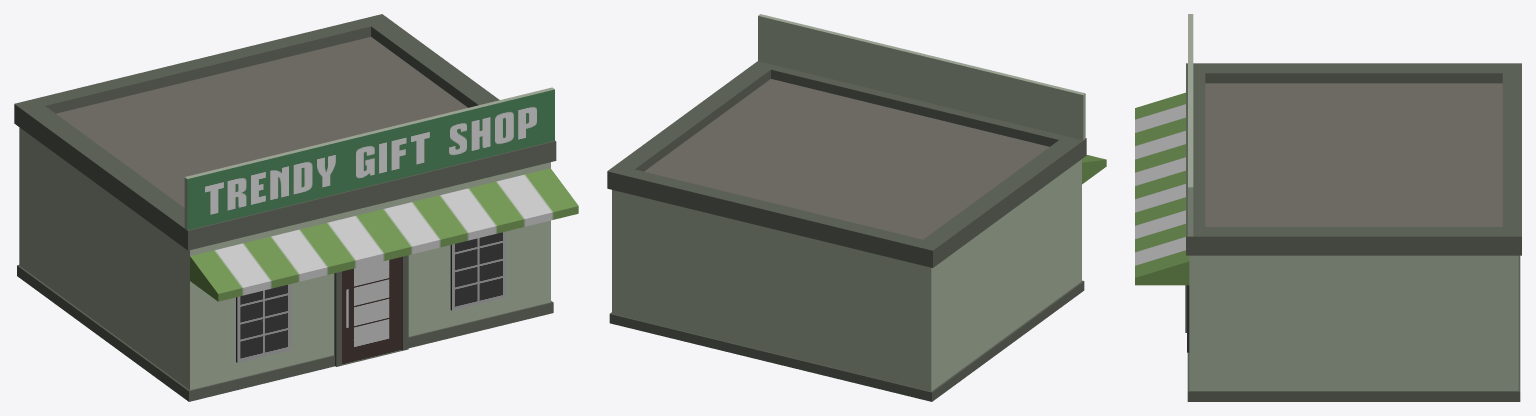
File: building-gift-shop.glb
3 renders of one model, left to right at view 1: azimuth 30°, elevation 25°; view 2: azimuth 150°, elevation 25°; view 3: azimuth 270°, elevation 25°, orthographic. The views are drawn at different scales.
Parts seen in each view (by area): view 1: Building_Gift Shop; view 2: Building_Gift Shop; view 3: Building_Gift Shop.
Boxes of the visible parts, <box> form: Building_Gift Shop: <box>14,14,578,401</box>; Building_Gift Shop: <box>607,14,1106,401</box>; Building_Gift Shop: <box>1135,14,1521,401</box>.
Bounding box in the file's own units: 11.22 × 6.5 × 10.57.
Materials: 1 (1 with a texture image).
